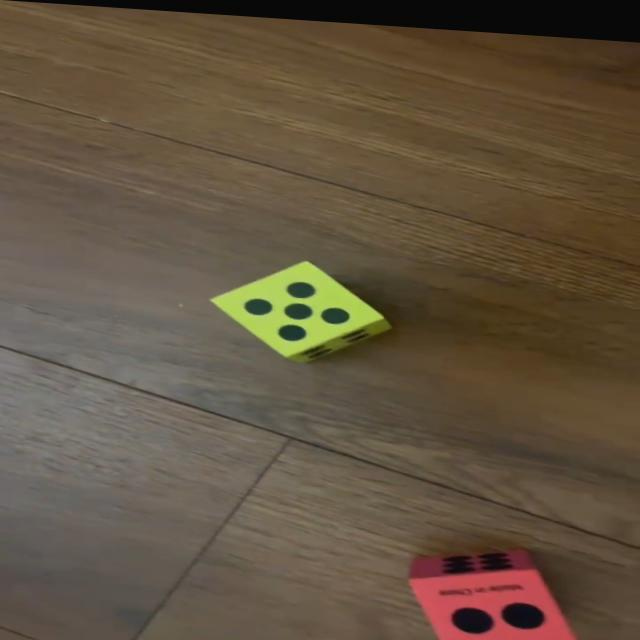cube: (409, 535, 579, 640)
